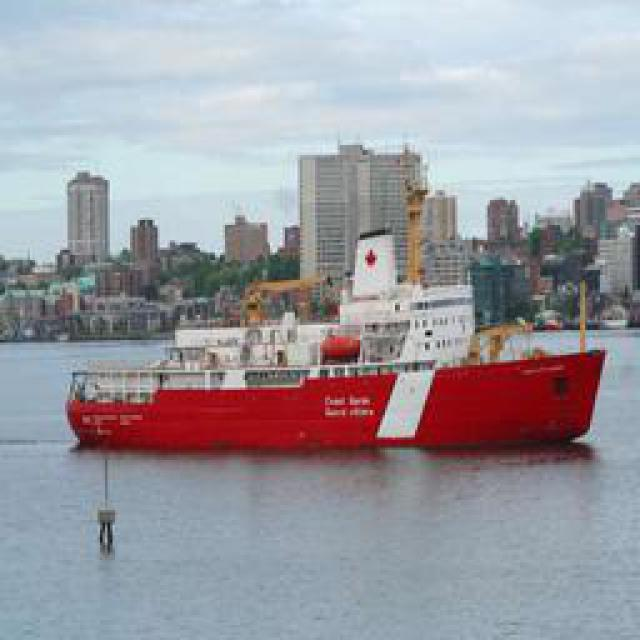Ship: (64, 208, 609, 455)
